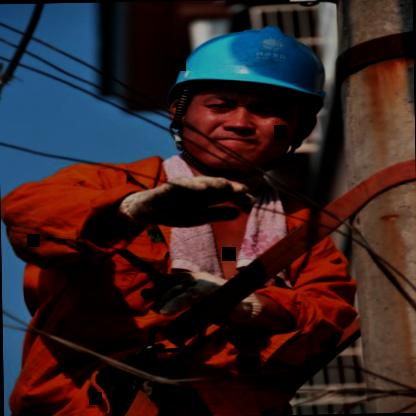helmet: (146, 11, 344, 182)
